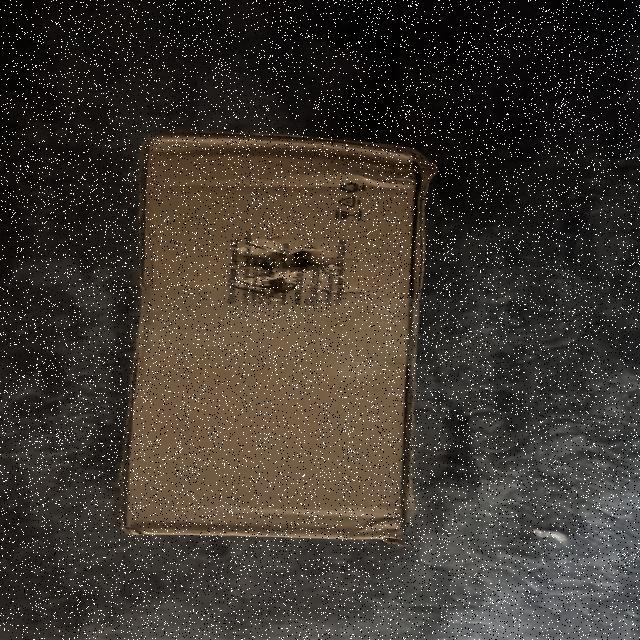damaged: (134, 130, 432, 545), (215, 222, 359, 316), (277, 126, 429, 192), (358, 509, 421, 548)
